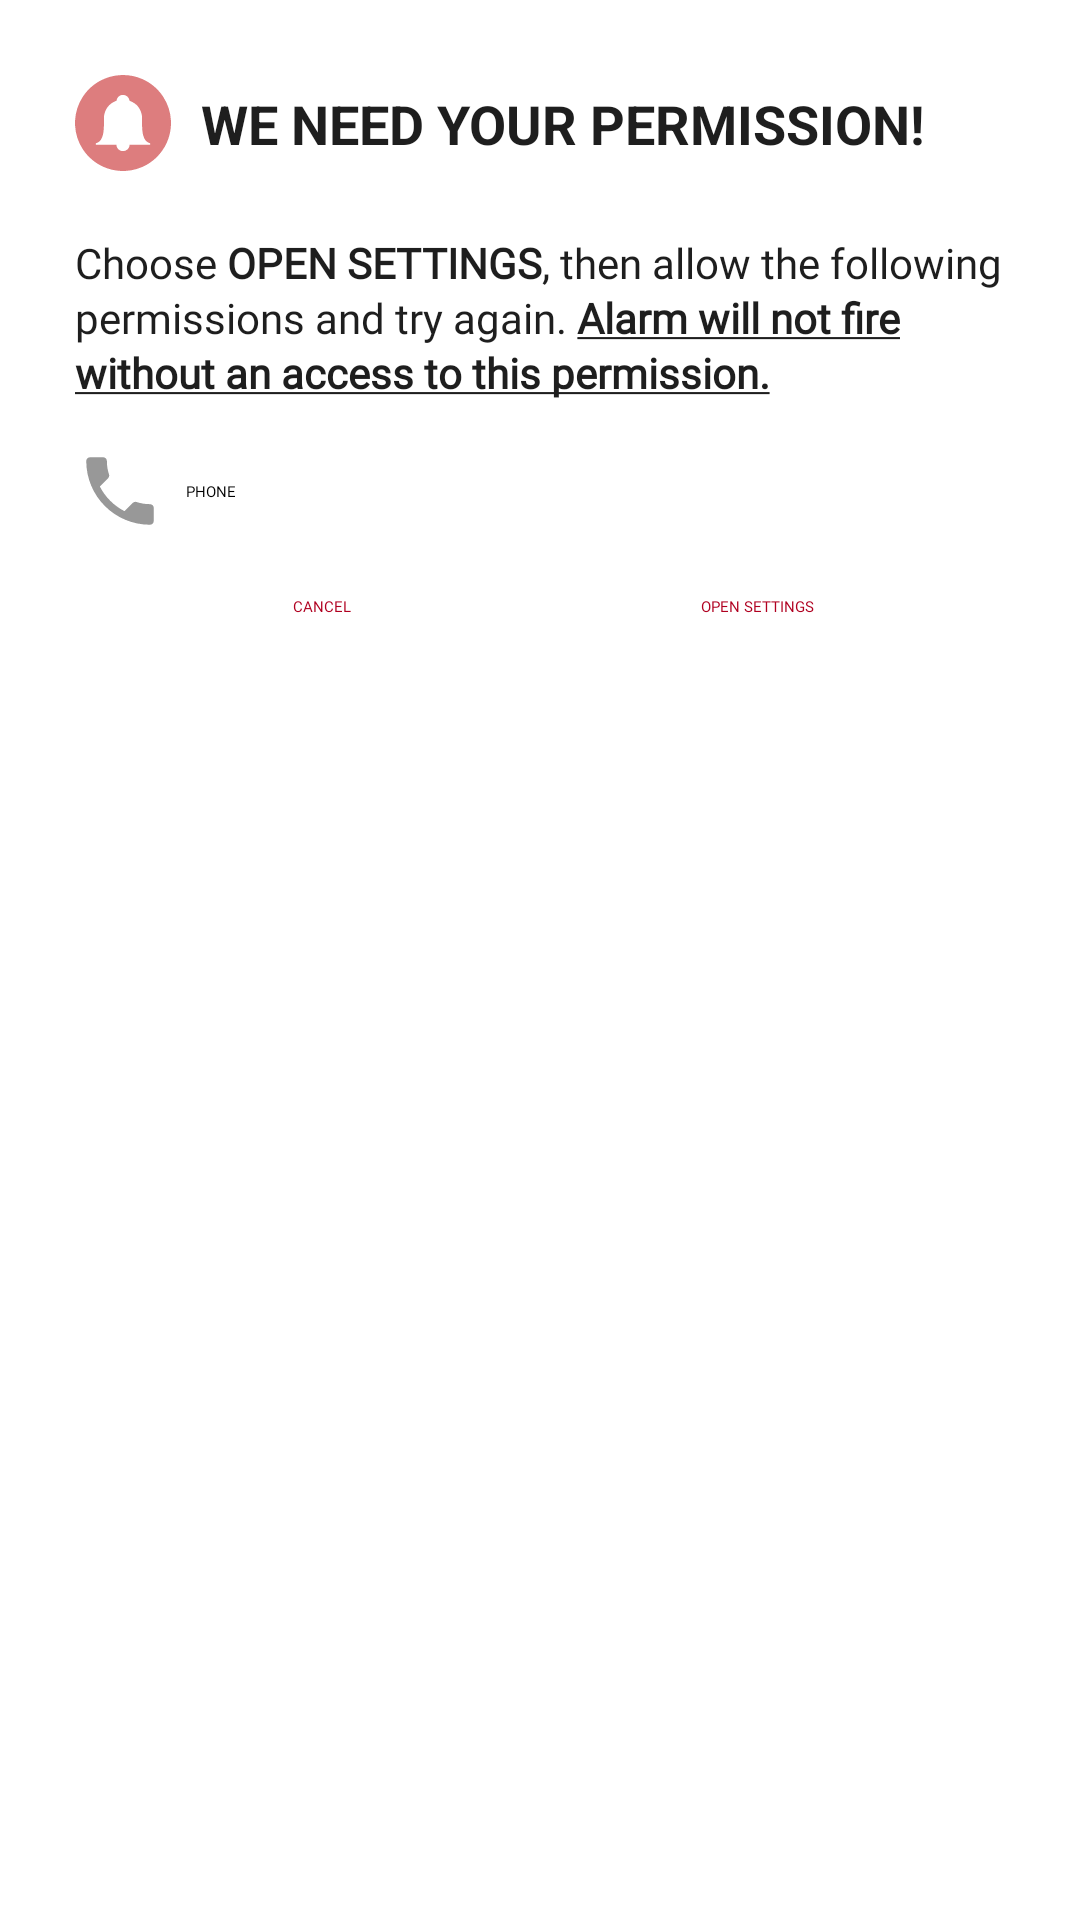

Screen size 1080x1920. Icon name, then its box in pixels as (x1, y1, x2, y2):
alarm on: (75, 75, 171, 171)
